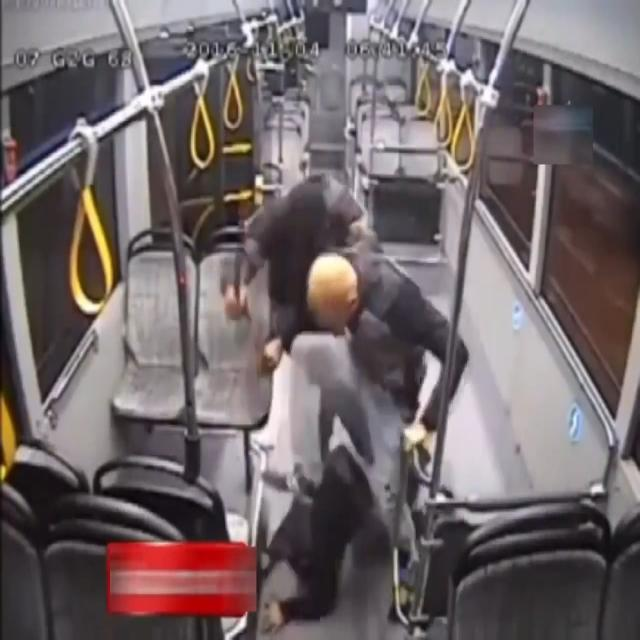fight: (226, 168, 424, 636)
